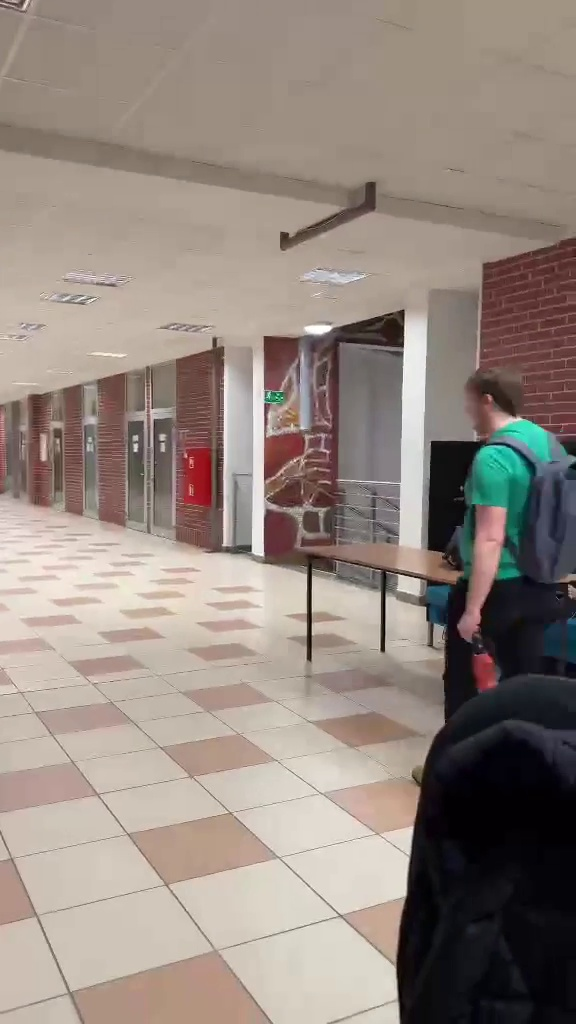no vest: (429, 360, 576, 713)
